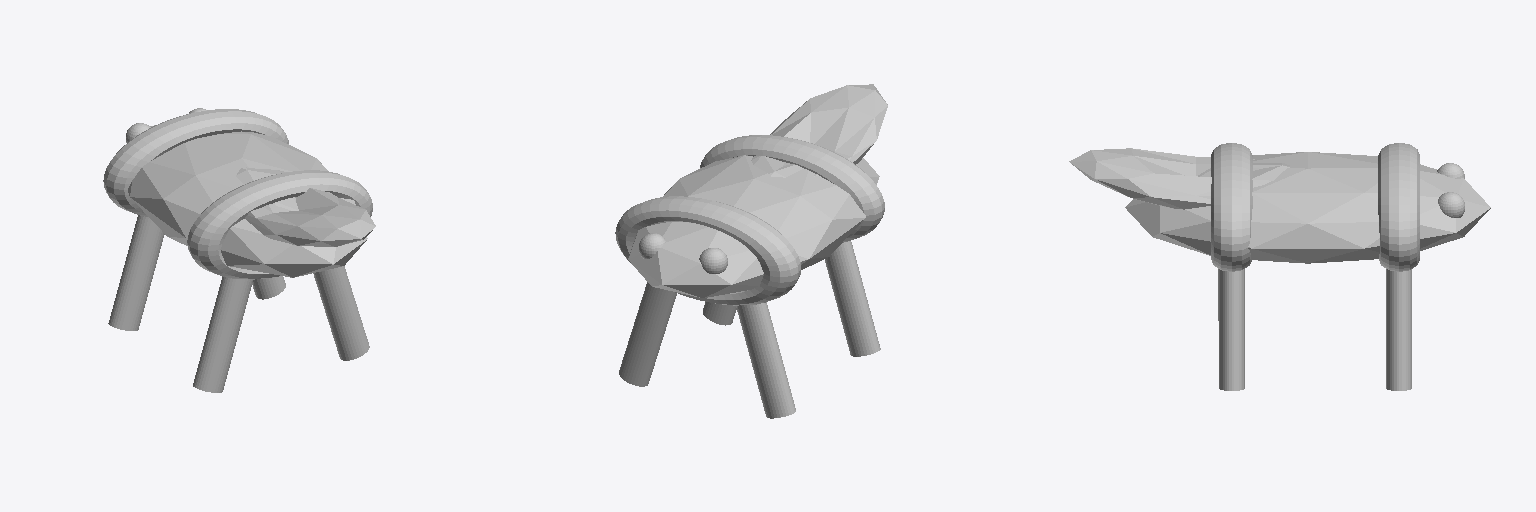
File: bever.obj
The picture shows the model from 3 angles: view 1: azimuth 30°, elevation 25°; view 2: azimuth 150°, elevation 25°; view 3: azimuth 270°, elevation 25°; orthographic projection.
Parts seen in each view (by area): view 1: Sphere; view 2: Sphere; view 3: Sphere.
Part boxes in pixels (x1,y1,x2,y2): Sphere: (103, 108, 375, 392); Sphere: (615, 84, 887, 418); Sphere: (1069, 143, 1490, 390).
Size of the model in its own units: 1.14 by 1.21 by 2.31.